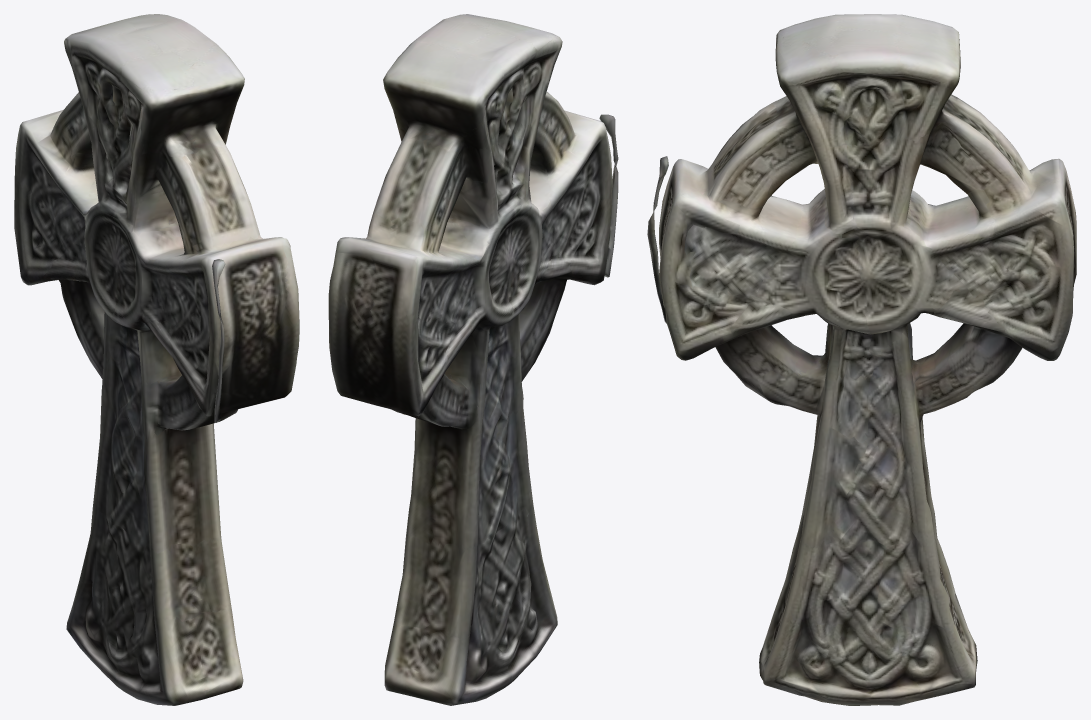
3 views of the same model, side by side, from view 1: azimuth 30°, elevation 25°; view 2: azimuth 150°, elevation 25°; view 3: azimuth 270°, elevation 25° (orthographic). The views are drawn at different scales.
Parts seen in each view (by area): view 1: tripo_node_138033c7-ba15-4924-9105-610cbc9ad77b_0; view 2: tripo_node_138033c7-ba15-4924-9105-610cbc9ad77b_0; view 3: tripo_node_138033c7-ba15-4924-9105-610cbc9ad77b_0.
Boxes of the visible parts, x1,y1,x2,y2 form: tripo_node_138033c7-ba15-4924-9105-610cbc9ad77b_0: [14, 14, 299, 705]; tripo_node_138033c7-ba15-4924-9105-610cbc9ad77b_0: [328, 14, 618, 705]; tripo_node_138033c7-ba15-4924-9105-610cbc9ad77b_0: [647, 14, 1076, 705].
Bounding box in the file's own units: 0.1522 × 0.9415 × 0.5539.
Materials: 1 (1 with a texture image).
